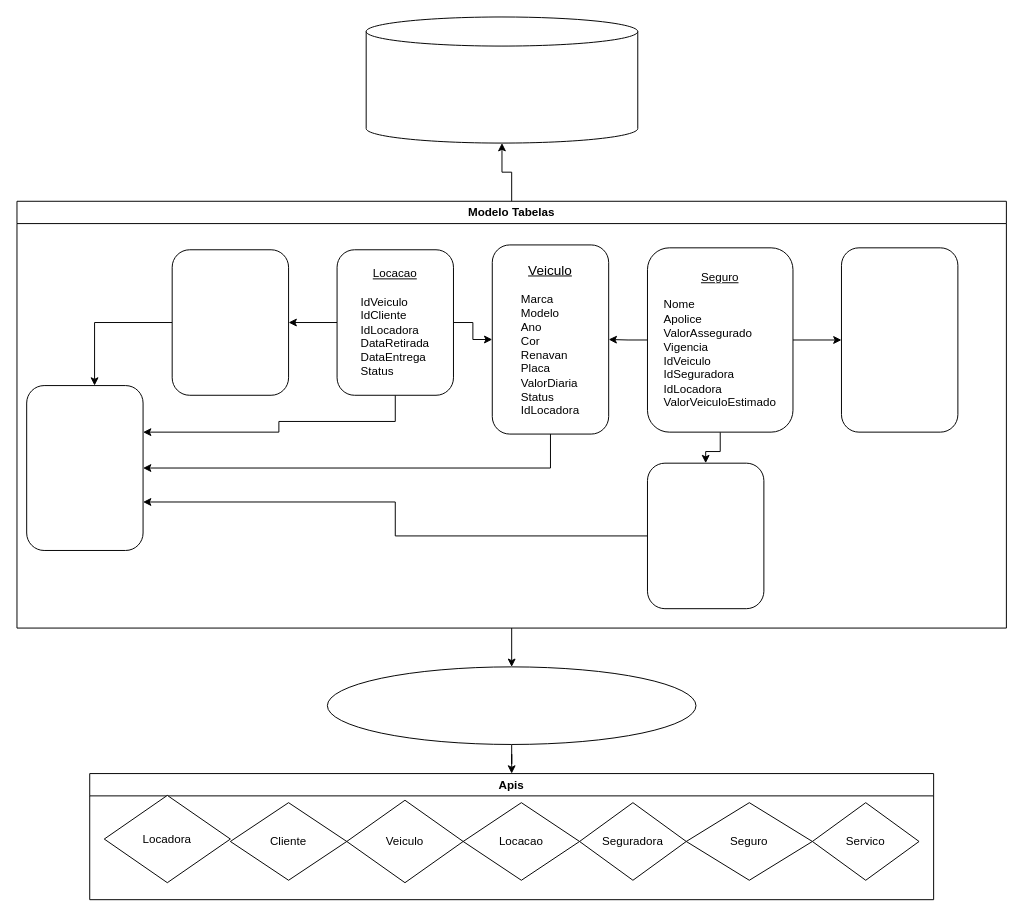
Some shapes in this 1023 by 917 pixel diagram are drawn without their labels. The shapes that lost their labels are listed below. From the top down, each one's centre as x and y in pixels, then its label:
point (501, 79): Sql Server Locadora
point (230, 322): Cliente Nome CPF Endereço Telefone Email Bloqueado
point (899, 339): Servico Fornecedor TipoServico IdSeguro Finalizado
point (84, 467): Locadora Nome Cnpj Endereço Telefone Email
point (705, 535): Seguradora Nome Cnpj Endereço Telefone Email IdLocadora
point (511, 705): Locadora Aplicação .NET Publicada Azure
